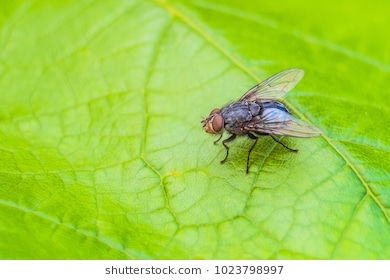green bottles flies: (196, 57, 329, 178)
